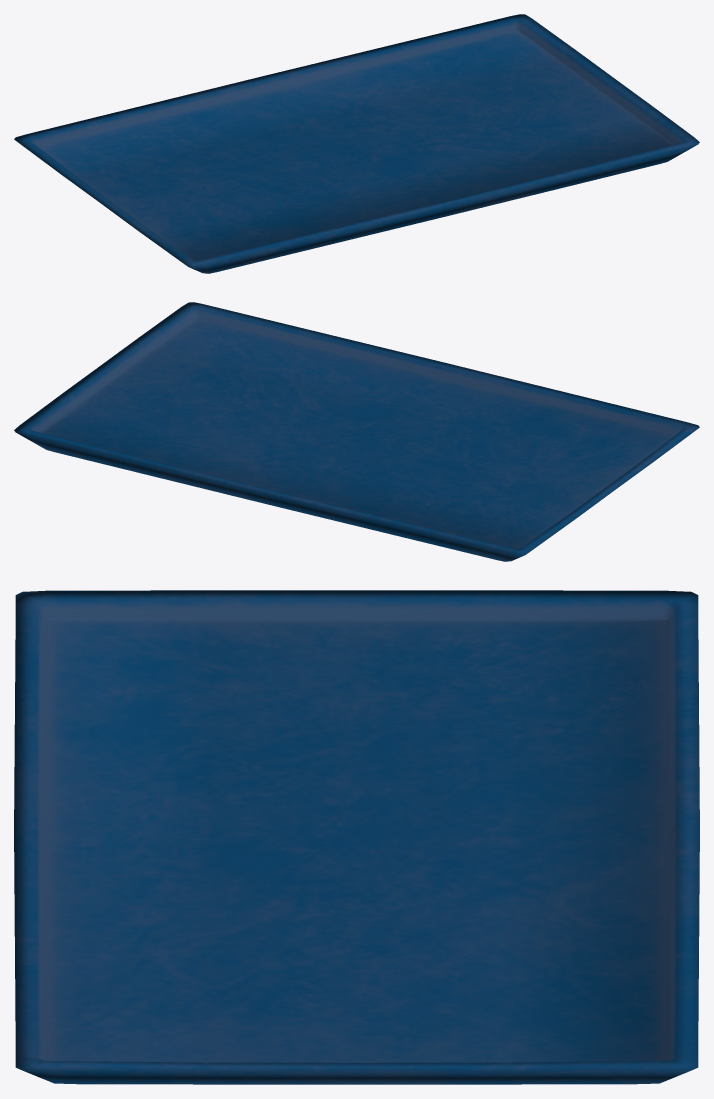
File: Tray3.fbx
The picture shows the model from 3 angles, top to bottom: view 1: azimuth 30°, elevation 25°; view 2: azimuth 150°, elevation 25°; view 3: azimuth 270°, elevation 25°; orthographic projection. The views are drawn at different scales.
Parts seen in each view (by area): view 1: R_Tray.002; view 2: R_Tray.002; view 3: R_Tray.002.
Boxes of the visible parts, x1,y1,x2,y2 form: R_Tray.002: (14,14,699,273); R_Tray.002: (14,302,699,561); R_Tray.002: (14,590,699,1084).
Size of the model in its own units: 39.45 by 1.33 by 23.79.
Materials: 1 (1 with a texture image).
